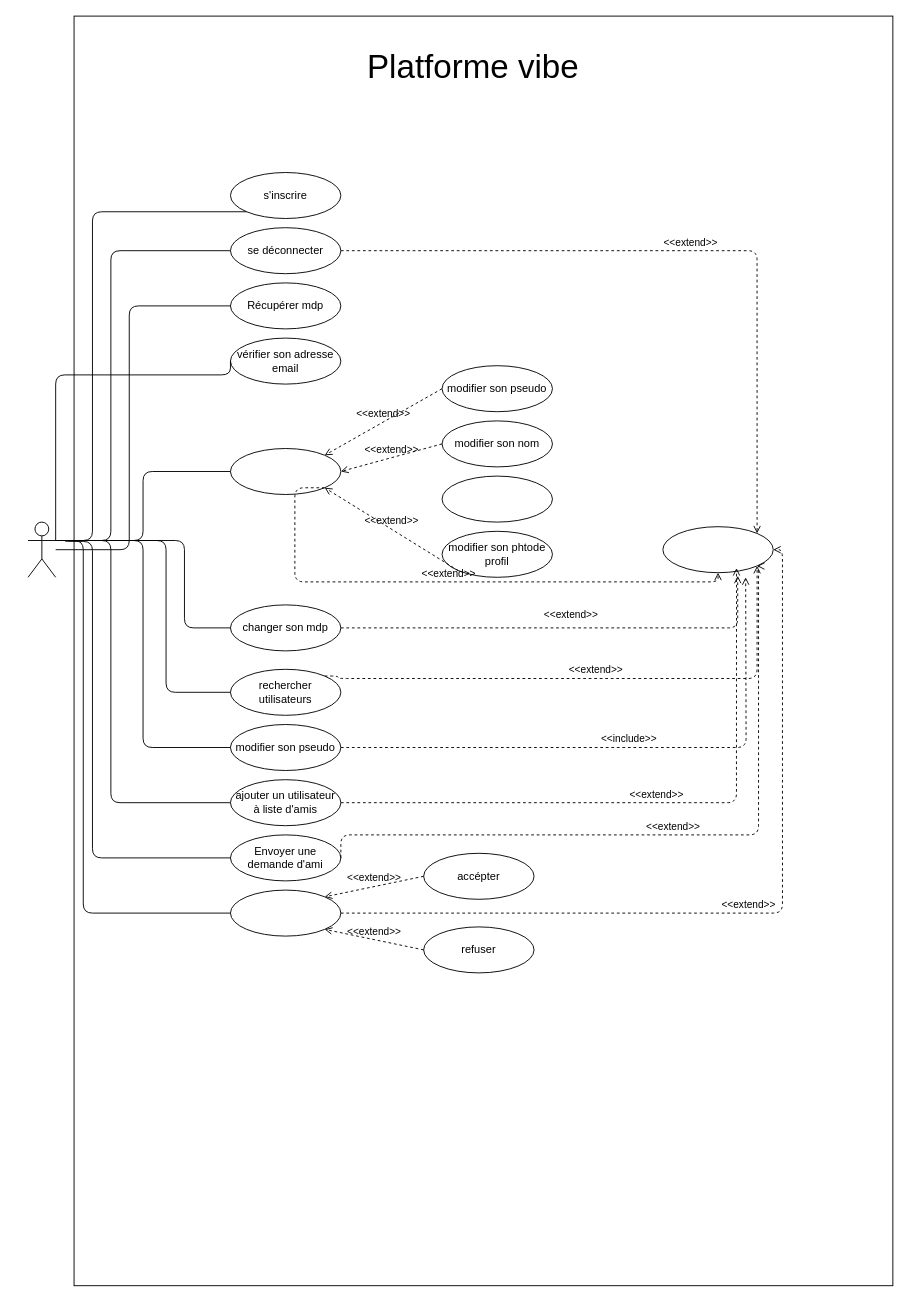
The diagram is 909 pixels wide and 1302 high, and some of its shapes have lost their labels. The centre of each missing label's shape, as x and y in pixels:
gérer demandes d'amitié: point 285,912
modifier son bio: point 496,498
modifier son profil: point 285,471
s'authentifier: point 717,549
utilisateur: point 41,549
